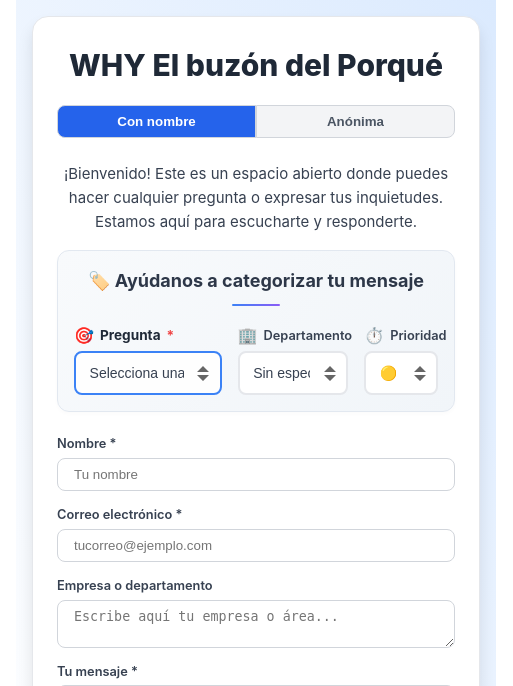
Test: InicioPlataformaWhy › Validaciones de campos › Validación de email › debe validar formato de email inválido
Type "email-invalido" into the field with placeholder "tucorreo@ejemplo.com" at [256, 545], box [57,529,455,562]
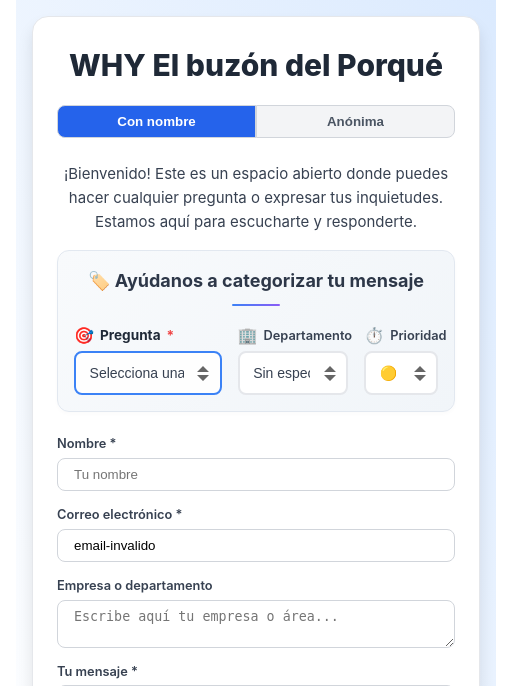
Leave the field with placeholder "tucorreo@ejemplo.com", box [57,529,455,562]
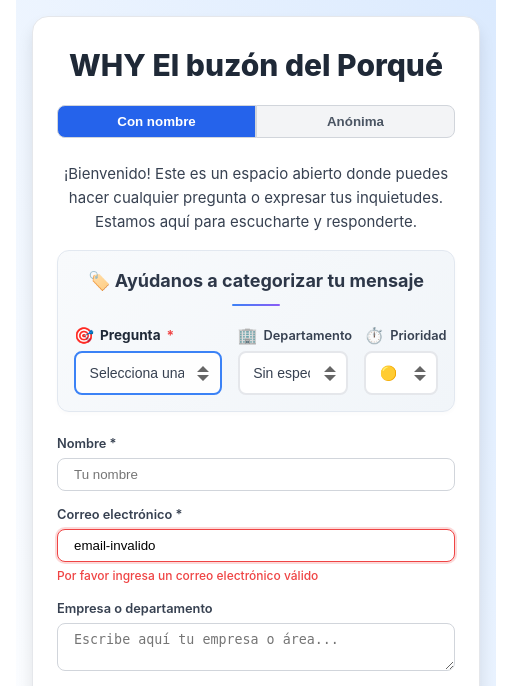
Expected: the text "Por favor ingresa un correo electrónico válido" is shown, [57,568,318,583]
